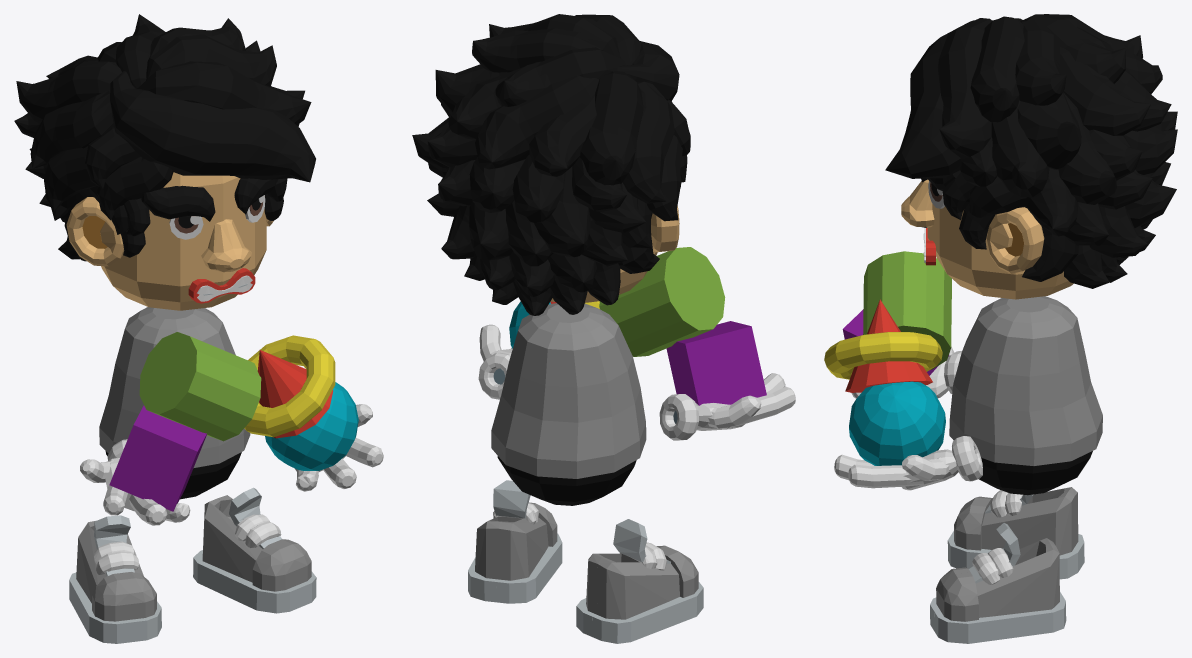
3 views of the same model, side by side, from view 1: azimuth 30°, elevation 25°; view 2: azimuth 150°, elevation 25°; view 3: azimuth 270°, elevation 25° (orthographic). The views are drawn at different scales.
Visible parts, largest first — view 1: node_MeshObject1225498176-PolyPaper18, node_MeshObject-1669561216-PolyPaper23, node_MeshObject1373909760-PolyPaper23, node_MeshObject1341438016-PolyPaper21, node_MeshObject-486914304-PolyPaper23; view 2: node_MeshObject-1669561216-PolyPaper23, node_MeshObject1225498176-PolyPaper18, node_MeshObject-486914304-PolyPaper23, node_MeshObject1341438016-PolyPaper21, node_MeshObject1373909760-PolyPaper23; view 3: node_MeshObject-1669561216-PolyPaper23, node_MeshObject1225498176-PolyPaper18, node_MeshObject1341438016-PolyPaper21, node_MeshObject1373909760-PolyPaper23, node_MeshObject-486914304-PolyPaper23.
Part boxes in pixels (<box>): node_MeshObject1225498176-PolyPaper18: <box>16,40,358,619</box>; node_MeshObject-1669561216-PolyPaper23: <box>58,14,356,643</box>; node_MeshObject1373909760-PolyPaper23: <box>46,55,335,603</box>; node_MeshObject1341438016-PolyPaper21: <box>25,86,345,613</box>; node_MeshObject-486914304-PolyPaper23: <box>14,18,383,522</box>; node_MeshObject-1669561216-PolyPaper23: <box>427,14,703,643</box>; node_MeshObject1225498176-PolyPaper18: <box>435,41,795,551</box>; node_MeshObject-486914304-PolyPaper23: <box>428,28,766,440</box>; node_MeshObject1341438016-PolyPaper21: <box>441,81,785,603</box>; node_MeshObject1373909760-PolyPaper23: <box>412,94,761,619</box>; node_MeshObject-1669561216-PolyPaper23: <box>834,14,1177,579</box>; node_MeshObject1225498176-PolyPaper18: <box>849,14,1171,550</box>; node_MeshObject1341438016-PolyPaper21: <box>902,100,1177,643</box>; node_MeshObject1373909760-PolyPaper23: <box>824,44,1162,546</box>; node_MeshObject-486914304-PolyPaper23: <box>842,20,1170,488</box>.
Bounding box in the file's own units: 0.721 × 1.36 × 0.7586.
